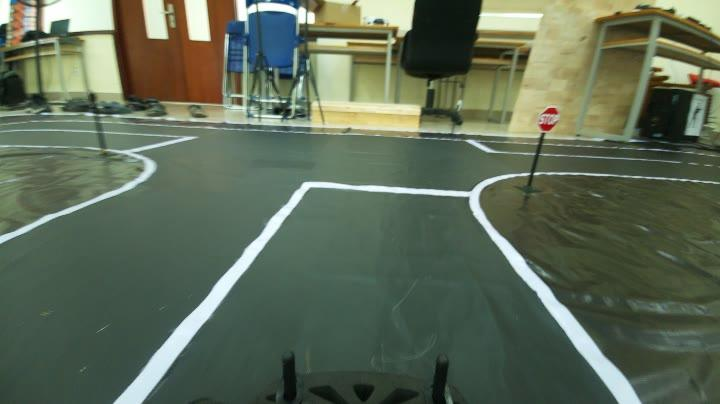stop: (532, 98, 570, 136)
